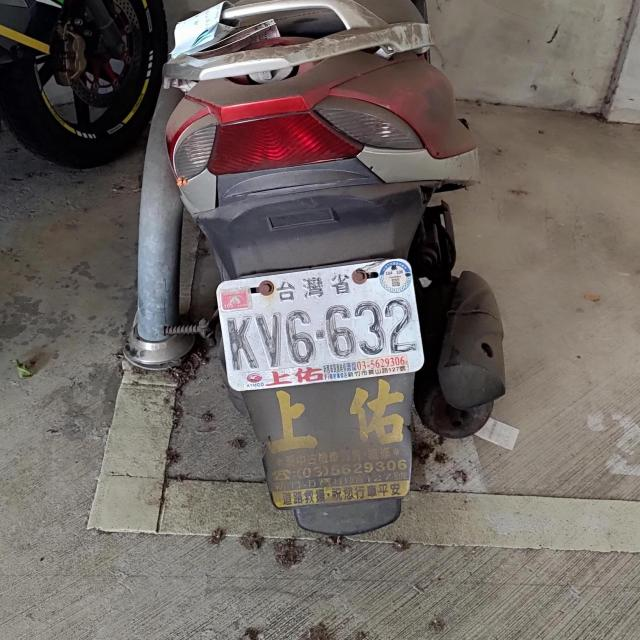W: (212, 256, 428, 393)
